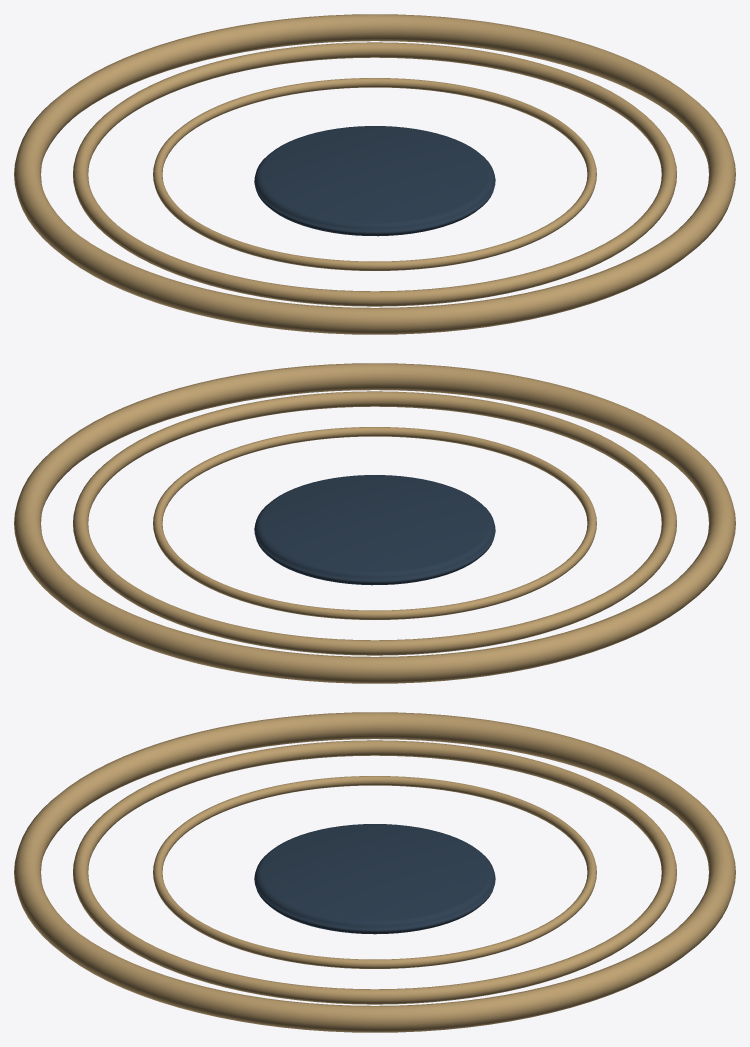
File: SM_Court_ResonanceDisc.fbx
3 views of the same model, one above another, from view 1: azimuth 30°, elevation 25°; view 2: azimuth 150°, elevation 25°; view 3: azimuth 270°, elevation 25° (orthographic).
Visible parts, largest first — view 1: SM_Court_ResonanceDisc; view 2: SM_Court_ResonanceDisc; view 3: SM_Court_ResonanceDisc.
Part boxes in pixels (x1,y1,x2,y2): SM_Court_ResonanceDisc: (14, 14, 735, 334); SM_Court_ResonanceDisc: (14, 363, 735, 683); SM_Court_ResonanceDisc: (14, 712, 735, 1032).
Bounding box in the file's own units: 150 × 150 × 5.8.
